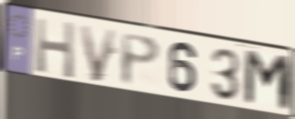3: (209, 47, 242, 103)
6: (167, 41, 199, 95)
H: (34, 16, 77, 82)
M: (242, 48, 294, 116)
P: (119, 30, 163, 89)
V: (76, 23, 119, 85)
